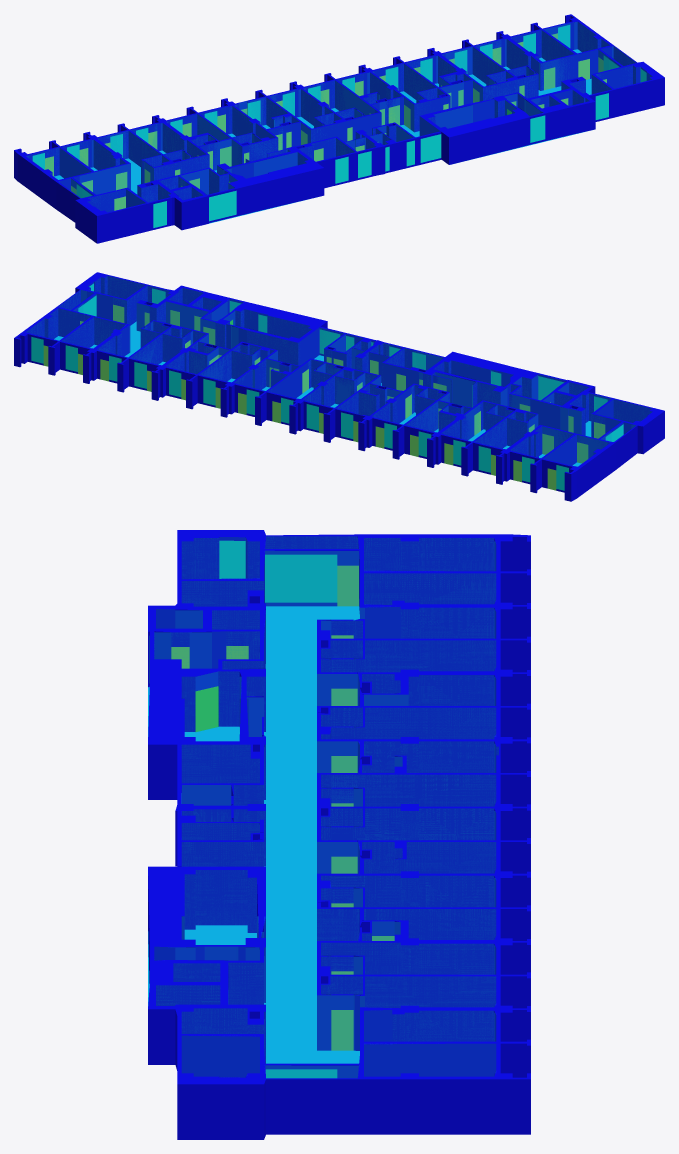
The model's file is floor_13.gltf.
3 renders of one model, top to bottom at view 1: azimuth 30°, elevation 25°; view 2: azimuth 150°, elevation 25°; view 3: azimuth 270°, elevation 25°, orthographic. The views are drawn at different scales.
Parts seen in each view (by area): view 1: group_solid_mesh, Room_13_31609_-6297, group_windows_mesh, group_door_mesh, Room_13_42836_-1852, group_ground_mesh, Room_13_33300_-11663, Room_13_29097_-11663, Room_13_48659_-11635, Room_13_13738_-11638, Room_13_40848_-11757, Room_13_21549_-11757 (+14 smaller); view 2: group_solid_mesh, Room_13_31609_-6297, group_windows_mesh, group_door_mesh, Room_13_42836_-1852, Room_13_29097_-11663, Room_13_33300_-11663, Room_13_13738_-11638, Room_13_48659_-11635, Room_13_40848_-11757, Room_13_21549_-11757, Room_13_1877_-12158 (+13 smaller); view 3: group_solid_mesh, Room_13_31609_-6297, group_ground_mesh, group_windows_mesh, group_door_mesh, Room_13_42836_-1852, Room_13_29097_-11663, Room_13_33300_-11663, Room_13_13738_-11638, Room_13_48659_-11635, Room_13_21549_-11757, Room_13_40848_-11757 (+23 smaller).
Part boxes in pixels (x1,y1,x2,y2): group_solid_mesh: (14, 14, 664, 243); Room_13_31609_-6297: (74, 39, 620, 202); group_windows_mesh: (32, 25, 646, 227); group_door_mesh: (45, 33, 606, 210); Room_13_42836_-1852: (428, 100, 516, 128); group_ground_mesh: (54, 49, 591, 223); Room_13_33300_-11663: (303, 80, 376, 115); Room_13_29097_-11663: (269, 89, 332, 127); Room_13_48659_-11635: (442, 47, 504, 85); Room_13_13738_-11638: (131, 123, 205, 156); Room_13_40848_-11757: (373, 64, 435, 102); Room_13_21549_-11757: (200, 106, 274, 137); group_solid_mesh: (14, 272, 664, 501); Room_13_31609_-6297: (73, 286, 620, 448); group_windows_mesh: (31, 283, 623, 490); group_door_mesh: (43, 304, 605, 490); Room_13_42836_-1852: (223, 309, 311, 337); Room_13_29097_-11663: (303, 373, 377, 407); Room_13_33300_-11663: (268, 360, 331, 398); Room_13_13738_-11638: (442, 402, 503, 440); Room_13_48659_-11635: (131, 331, 204, 364); Room_13_40848_-11757: (199, 350, 273, 381); Room_13_21549_-11757: (373, 385, 434, 423); Room_13_1877_-12158: (544, 435, 609, 466); group_solid_mesh: (148, 530, 530, 1139); Room_13_31609_-6297: (182, 551, 495, 1063); group_ground_mesh: (148, 606, 359, 1063); group_windows_mesh: (149, 540, 337, 1078); group_door_mesh: (171, 565, 394, 1050); Room_13_42836_-1852: (182, 870, 258, 944); Room_13_29097_-11663: (321, 775, 495, 806); Room_13_33300_-11663: (321, 808, 495, 839); Room_13_13738_-11638: (321, 640, 495, 671); Room_13_48659_-11635: (321, 943, 495, 974); Room_13_21549_-11757: (321, 708, 495, 738); Room_13_40848_-11757: (321, 876, 495, 906).
Size of the model in its own units: 64349 by 3000 by 18799.
